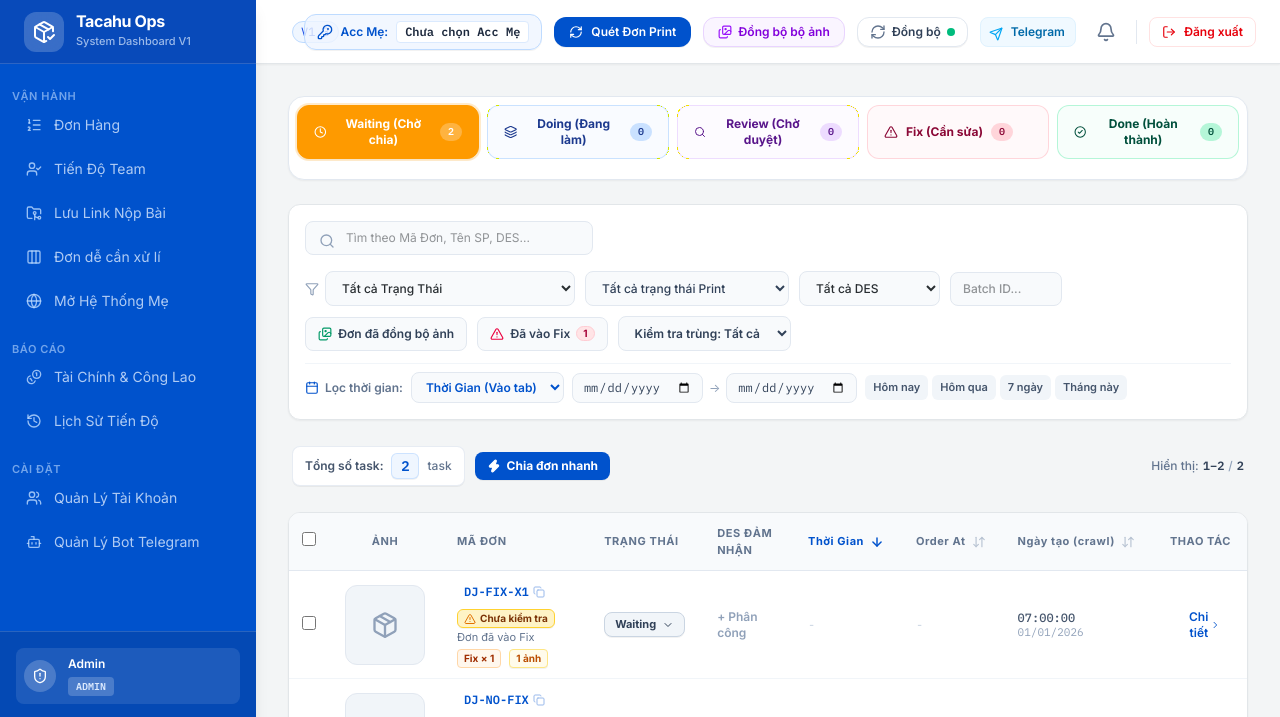
OrdersListPage › lets an admin filter the current tab to orders that have entered Fix
The width and height of the screenshot is (1280, 717).
Expected: the text "DJ-FIX-X1" is shown, [464,584,529,600]
Click the button with aria-label "Lọc đơn đã vào Fix" at (542, 334), box [477,316,608,350]
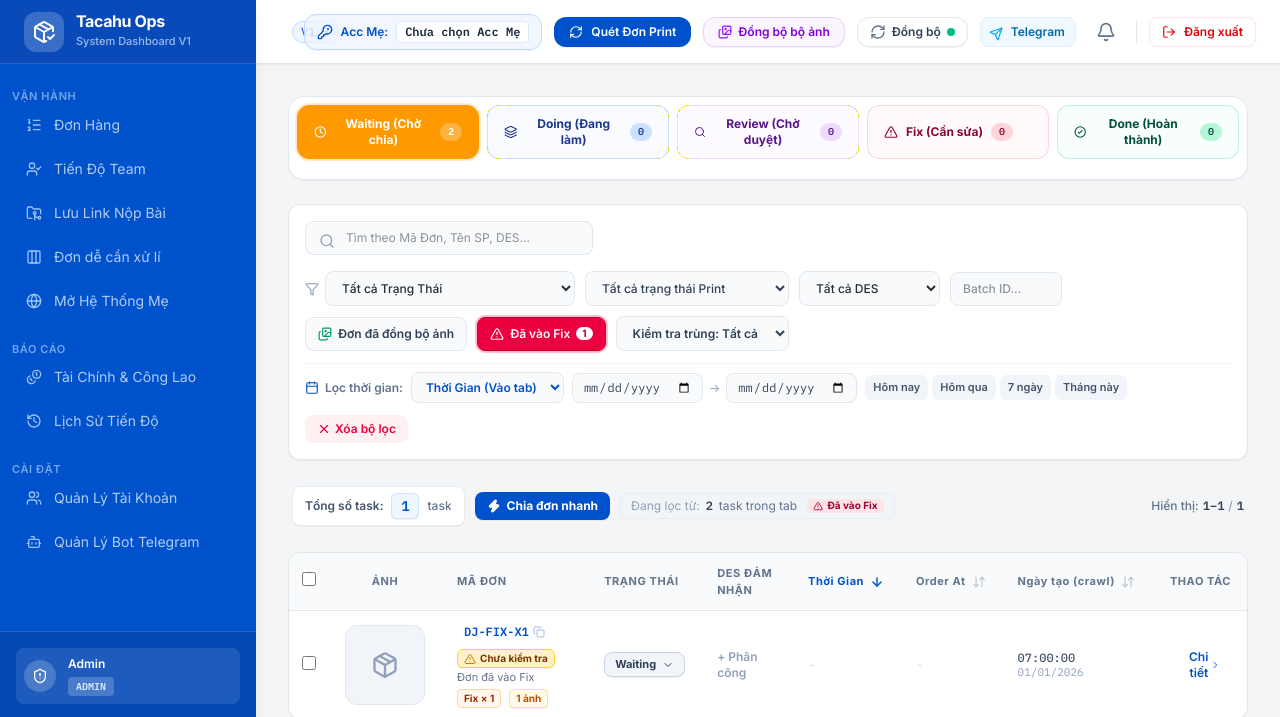
Expected: the text "DJ-FIX-X1" is shown, [464,624,529,640]
Expected: the button "DJ-NO-FIX" is gone
